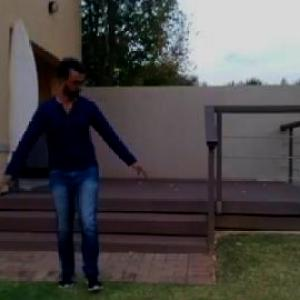land: (1, 44, 147, 286)
